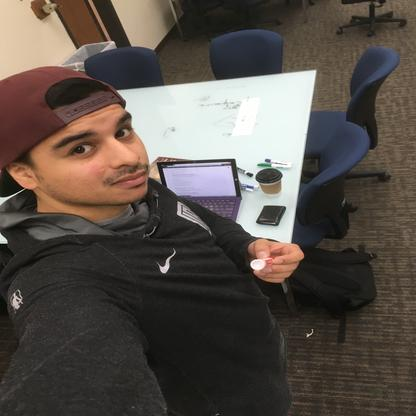expo_marker: (245, 247, 284, 273), (253, 160, 292, 171), (238, 180, 262, 196), (262, 155, 289, 169), (236, 161, 256, 179)
